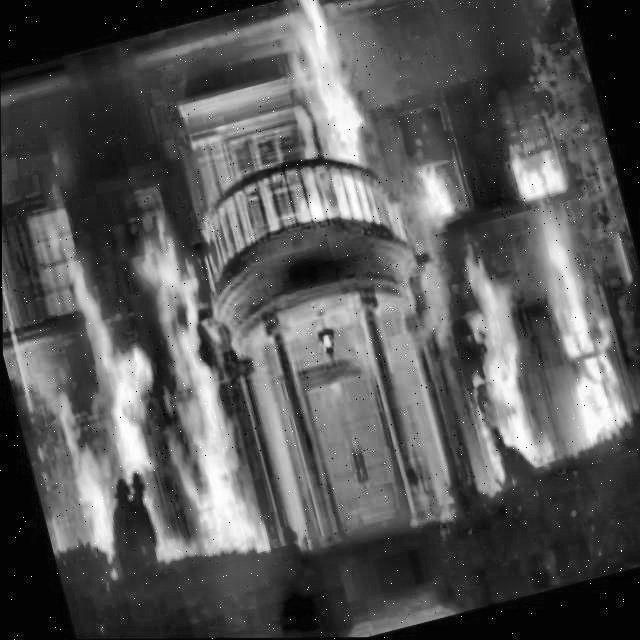Fire: (10, 185, 267, 583), (419, 221, 565, 520), (512, 150, 634, 473), (267, 0, 397, 257), (403, 134, 463, 226)
